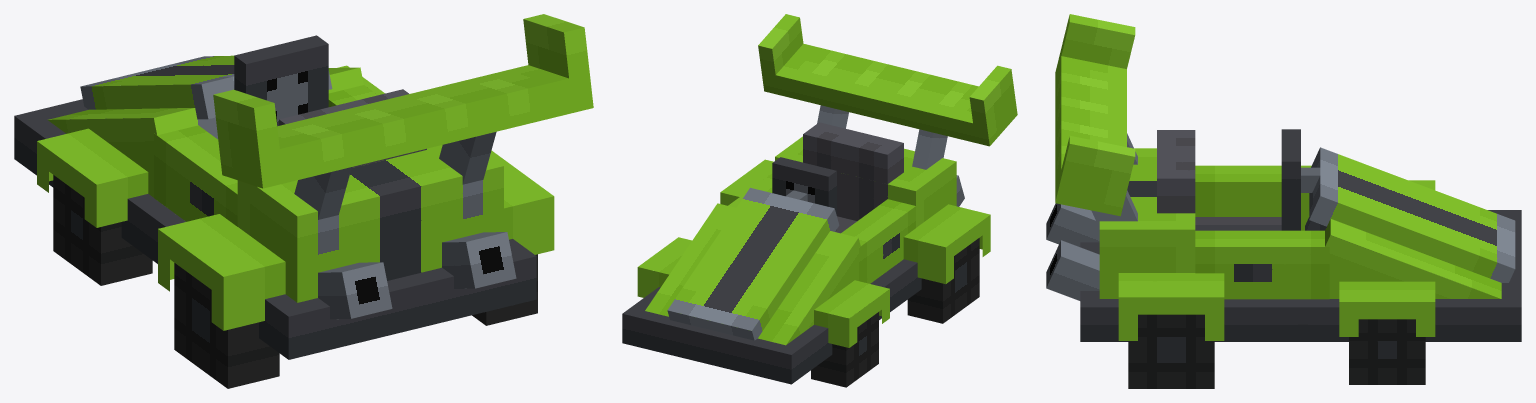
File: Lime Kart.glb
3 renders of one model, left to right at view 1: azimuth 30°, elevation 25°; view 2: azimuth 150°, elevation 25°; view 3: azimuth 270°, elevation 25°, orthographic. The views are drawn at different scales.
Visible parts, largest first — view 1: BodyMesh, WheelMesh (×3), SteeringWheelMesh; view 2: BodyMesh, WheelMesh (×2), SteeringWheelMesh; view 3: BodyMesh, WheelMesh (×2), SteeringWheelMesh.
Part boxes in pixels (box(x1,y1,x2,y2)): BodyMesh: box(14, 14, 593, 359); WheelMesh (×3): box(53, 175, 537, 388); SteeringWheelMesh: box(234, 35, 328, 126); BodyMesh: box(622, 14, 1017, 384); WheelMesh (×2): box(811, 238, 979, 387); SteeringWheelMesh: box(772, 157, 836, 230); BodyMesh: box(1046, 14, 1521, 341); WheelMesh (×2): box(1128, 314, 1425, 388); SteeringWheelMesh: box(1281, 129, 1320, 230).
Bounding box in the file's own units: 2 × 1.79 × 3.1.
1 material, 1 textured.
